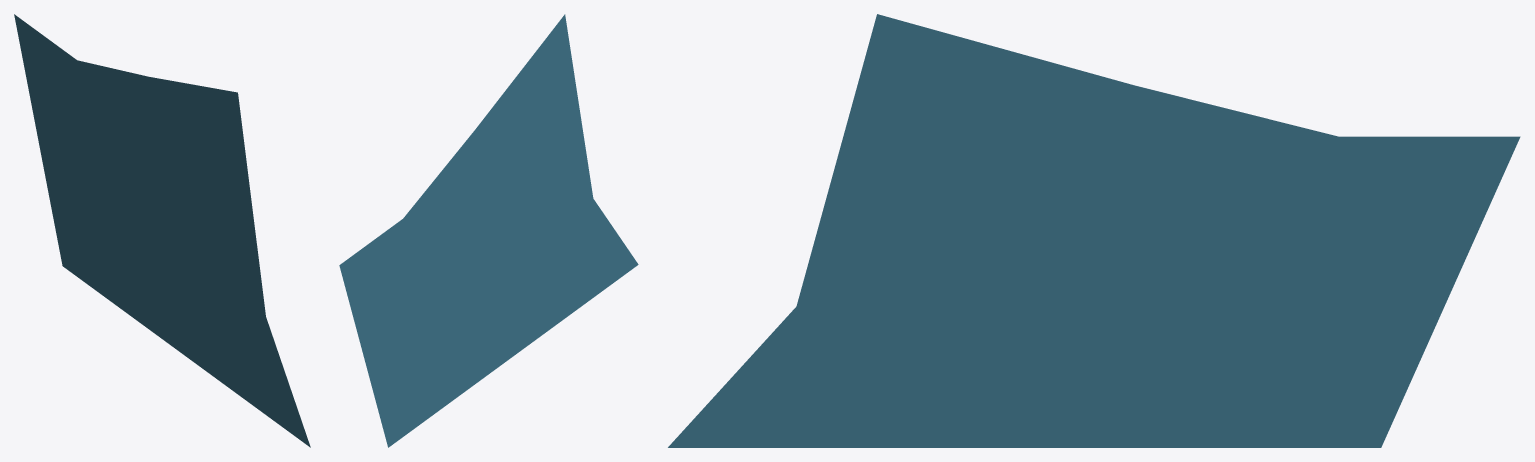
File: NexusC_Cloth_31.fbx
The picture shows the model from 3 angles, left to right: view 1: azimuth 30°, elevation 25°; view 2: azimuth 150°, elevation 25°; view 3: azimuth 270°, elevation 25°; orthographic projection. The views are drawn at different scales.
Parts seen in each view (by area): view 1: polySurface15; view 2: polySurface15; view 3: polySurface15.
Part boxes in pixels (x1=…): polySurface15: x1=14, y1=14, x2=310, y2=447; polySurface15: x1=339, y1=14, x2=638, y2=447; polySurface15: x1=668, y1=14, x2=1520, y2=447.
Size of the model in its own units: 2.04e-05 by 36.89 by 65.73.
